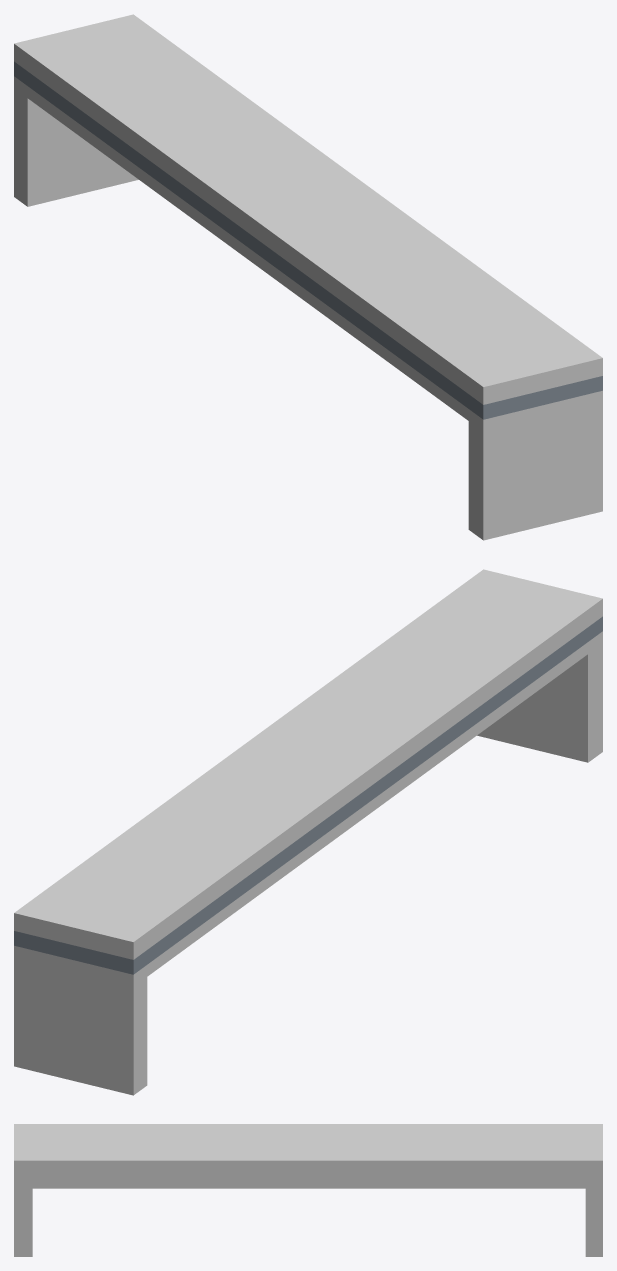
The model's file is table_ordinateurs.fbx.
3 renders of one model, top to bottom at view 1: azimuth 30°, elevation 25°; view 2: azimuth 150°, elevation 25°; view 3: azimuth 270°, elevation 25°, orthographic. The views are drawn at different scales.
Parts seen in each view (by area): view 1: pCube82; view 2: pCube82; view 3: pCube82.
Part boxes in pixels (<box>): pCube82: <box>14,14,602,540</box>; pCube82: <box>14,569,602,1095</box>; pCube82: <box>14,1124,602,1256</box>.
Bounding box in the file's own units: 218 × 267 × 1481.
